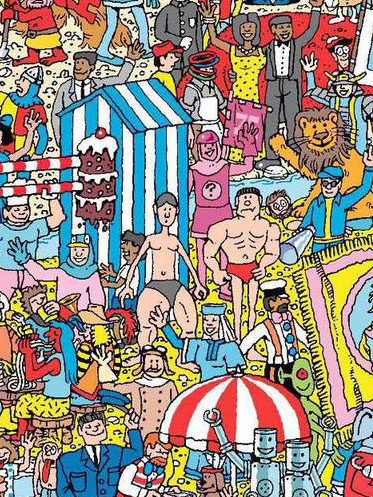waldo: (324, 33, 352, 68)
